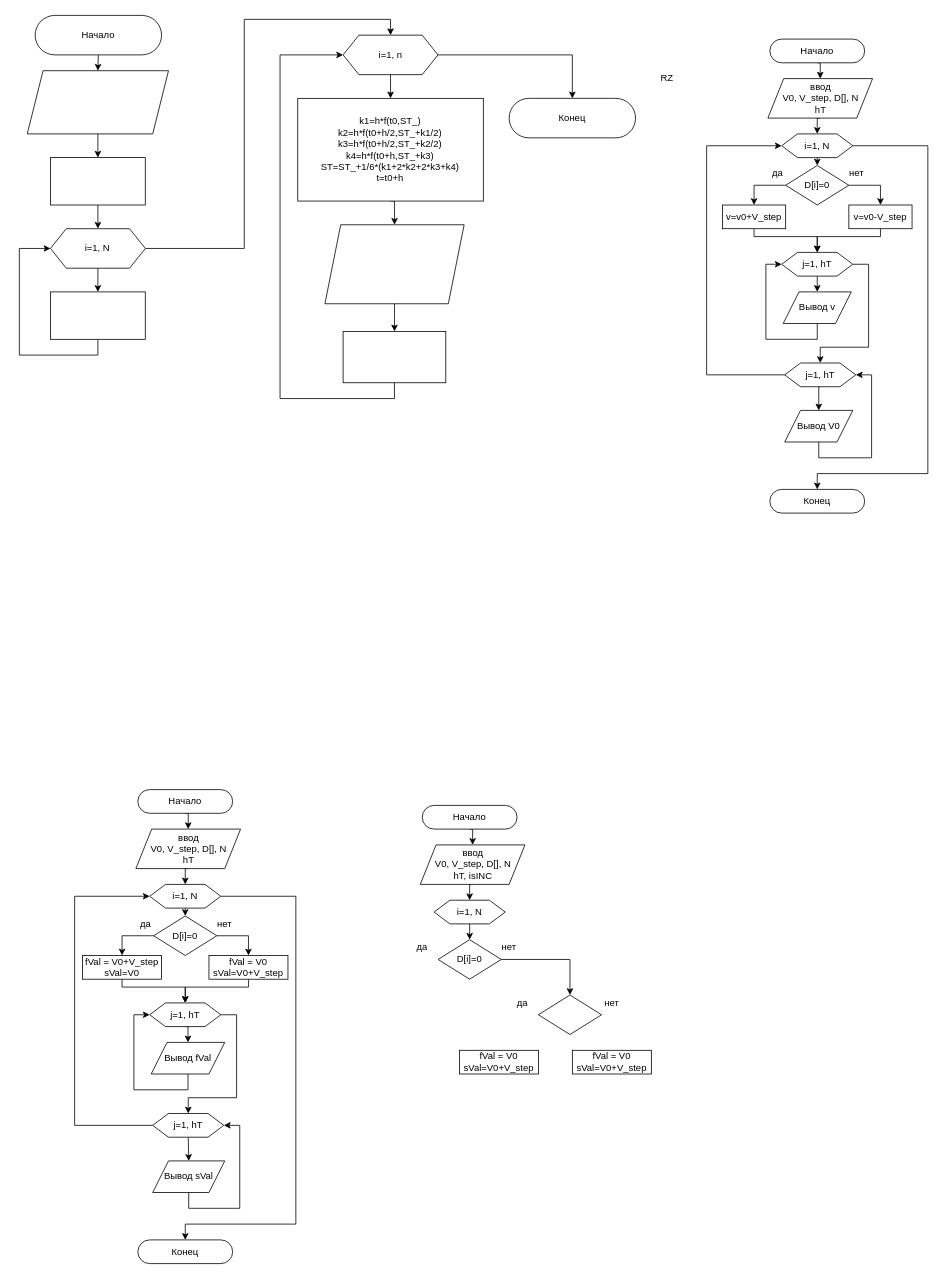
The diagram is 948 pixels wide and 1277 high, and some of its shapes have lost their labels. The shapes that lost their labels are listed below. From the top down, each one's centre as x and y in pixels, then its label:
At point (97, 102): "ввод U[], I[], h, T, N, f(t, Vec[2*N])".
At point (97, 181): "n = (T/h) ST_ = [2*N] t0 = 0".
At point (394, 264): "Вывод t, ST".
At point (97, 315): "ST_[2*i] = I[i] ST_[2*i+1] = U[i]".
At point (394, 357): "t0=t ST_=ST".
At point (570, 1014): "isINC=true".
